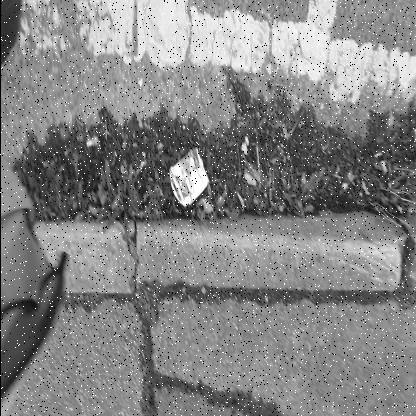metal: (168, 146, 208, 206)
